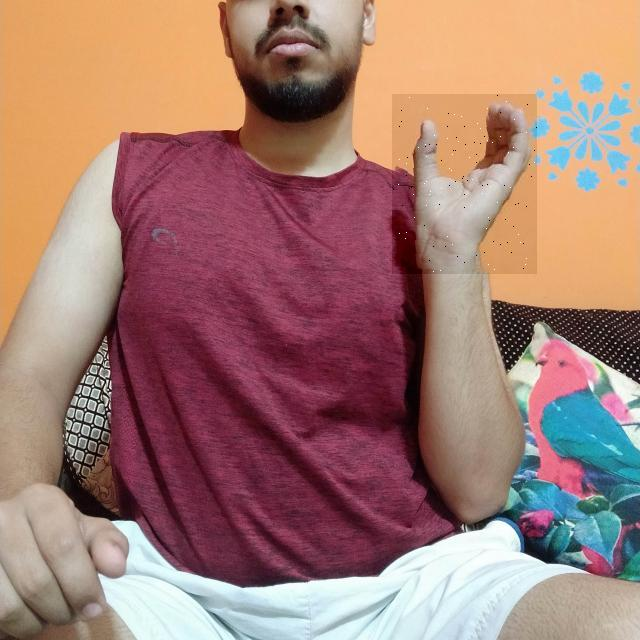U: (392, 94, 537, 274)
